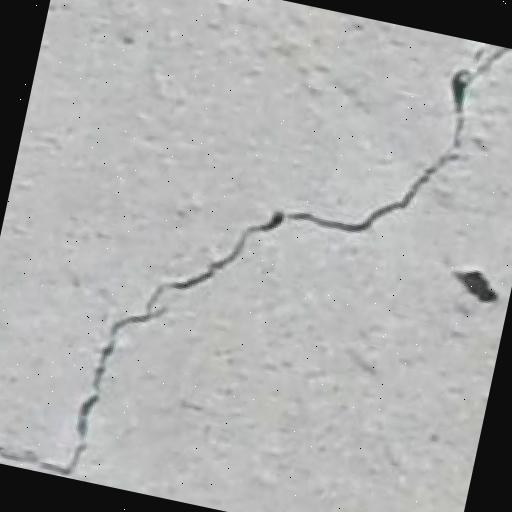spalling: (0, 44, 512, 481)
